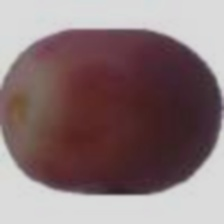grapes: (0, 7, 201, 197)
